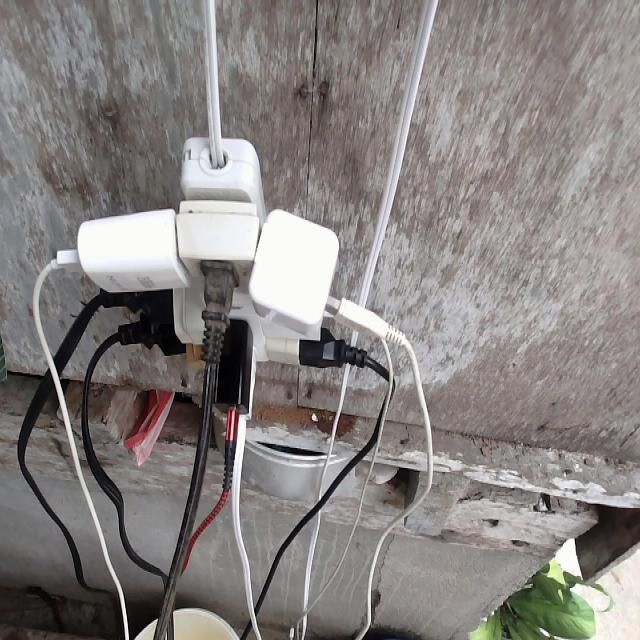-: (31, 136, 395, 437)
